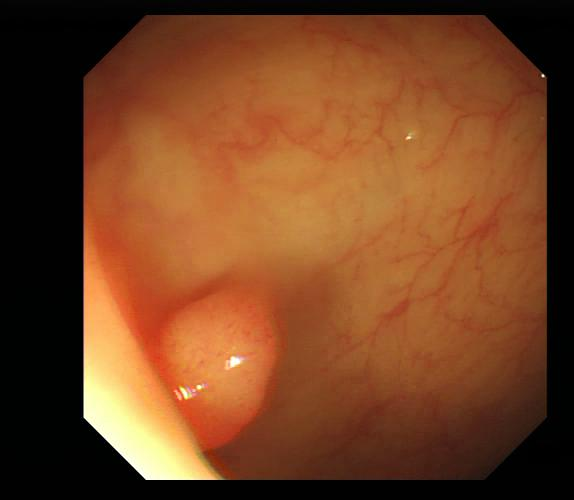polyp: (149, 294, 279, 455)
